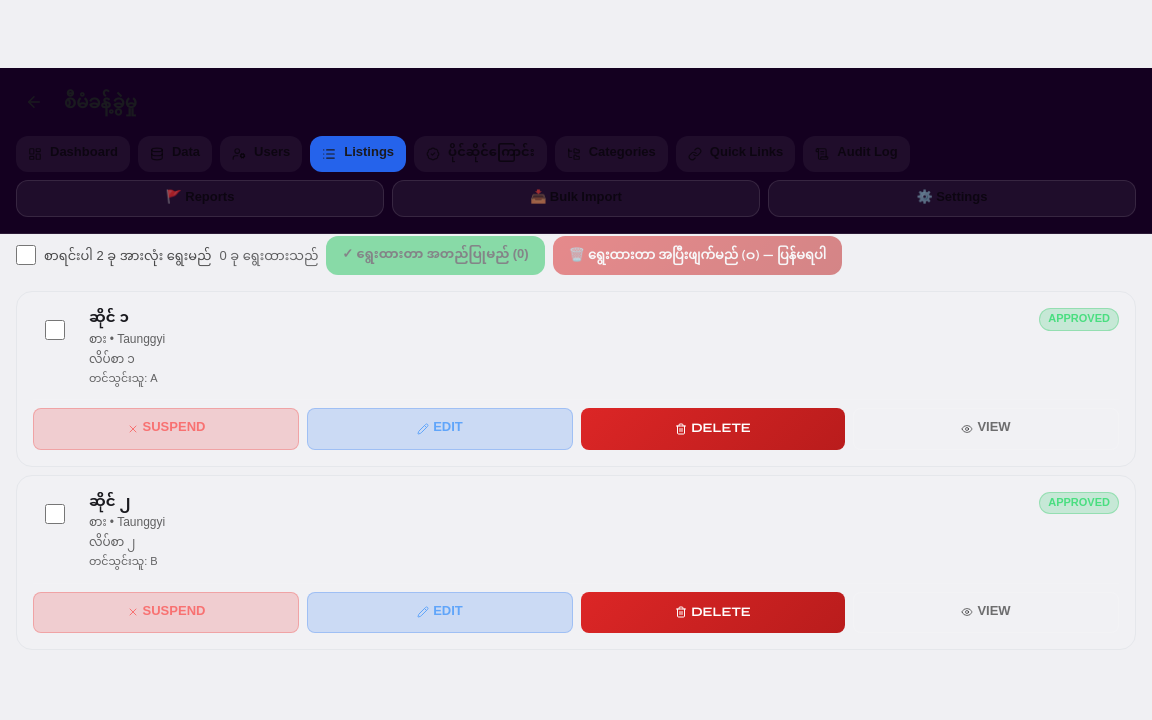
Test: v9.25 bulk delete: Admin listings tab renders › as admin shows checkboxes + select-all + bulk button; selecting 2 enables it with count 2
The image size is (1152, 720).
Expected: the text "ဆိုင် ၁" is shown, [89,302,129,335]
Expected: the text "ဆိုင် ၂" is shown, [89,486,130,518]
// Row checkboxes are the last two (select-all is rendered first in the bar).
Click the checkbox next to "ဆိုင် ၁": (55, 330) [45,320,65,340]
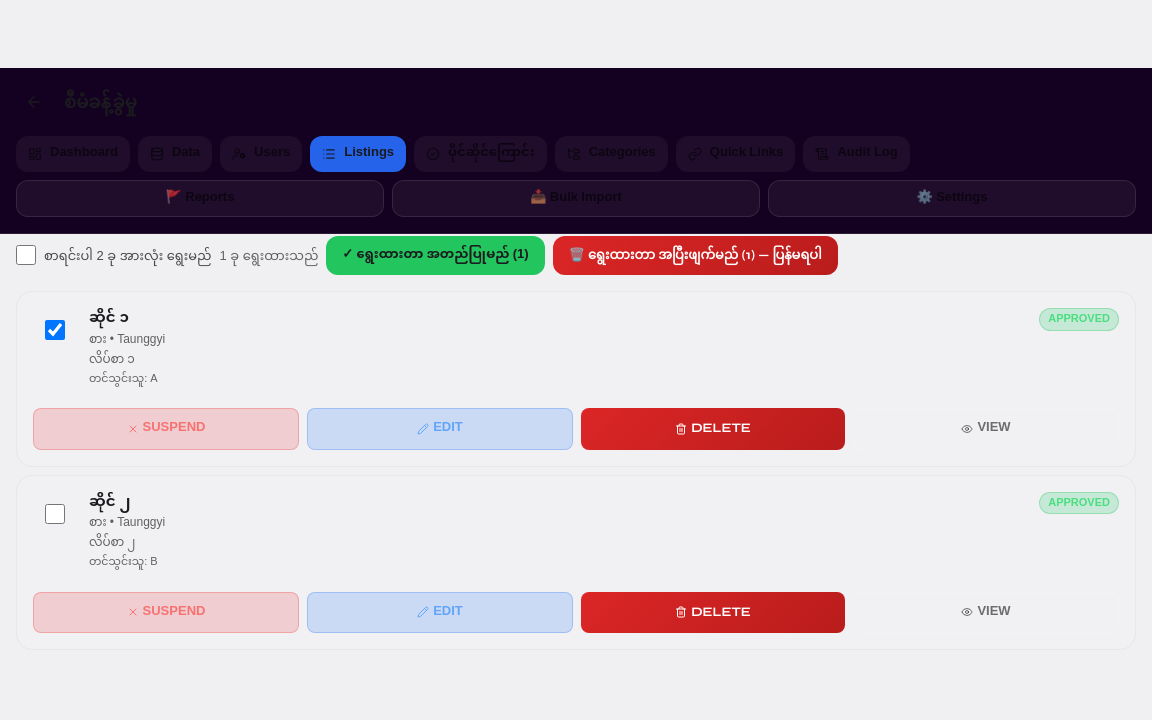
Click the checkbox next to "ဆိုင် ၂": (55, 514) [45,504,65,524]
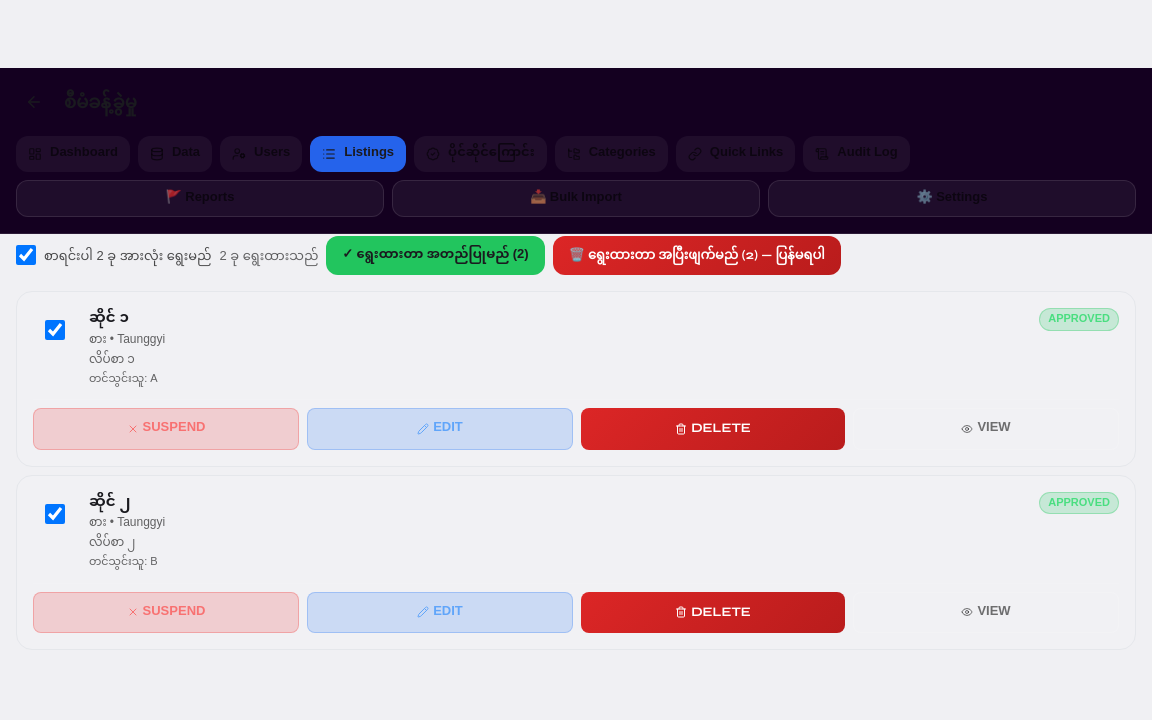
Expected: the button "🗑️ ရွေးထားတာ အပြီးဖျက်မည် (2) — ပြန်မရပါ" is enabled, [553,236,841,275]
Expected: the text "2 ခု ရွေးထားသည်" is shown, [220,244,318,267]
